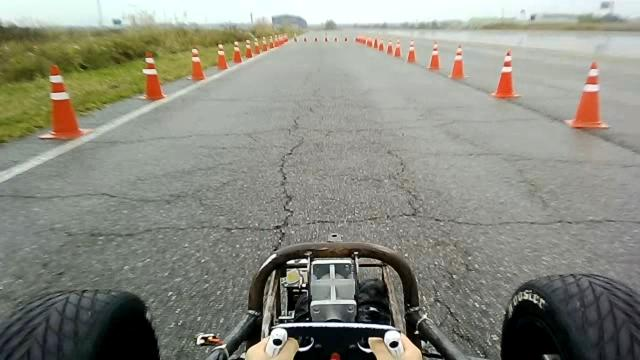red cone: (38, 63, 94, 140), (564, 61, 610, 129), (491, 49, 521, 99), (137, 50, 166, 101), (449, 44, 468, 79), (187, 48, 205, 82), (427, 40, 441, 70), (216, 42, 228, 70), (232, 40, 243, 63), (406, 38, 416, 62), (393, 38, 402, 57), (245, 39, 252, 58), (386, 39, 394, 55)
